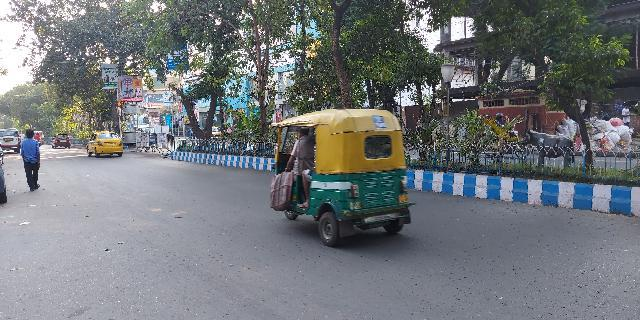Autorickshaw: (258, 108, 414, 250)
Car: (82, 130, 126, 159)
